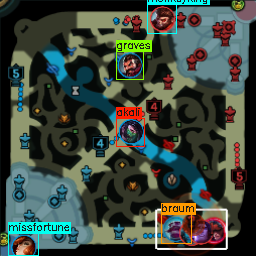akali: (118, 119, 142, 142)
braum: (163, 215, 186, 240)
graves: (118, 53, 141, 76)
missfortune: (11, 234, 37, 256)
monkeyking: (150, 4, 174, 31)
taric: (188, 219, 211, 242)
